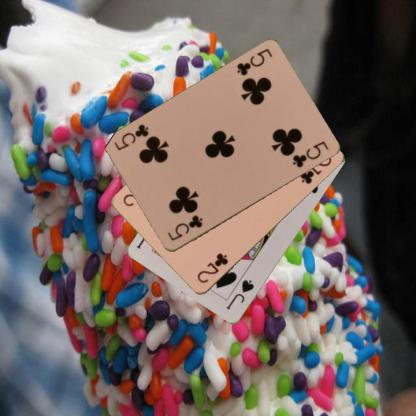2c: (194, 251, 230, 285)
5c: (233, 46, 274, 78), (165, 212, 204, 242)
Js: (224, 278, 256, 312)
